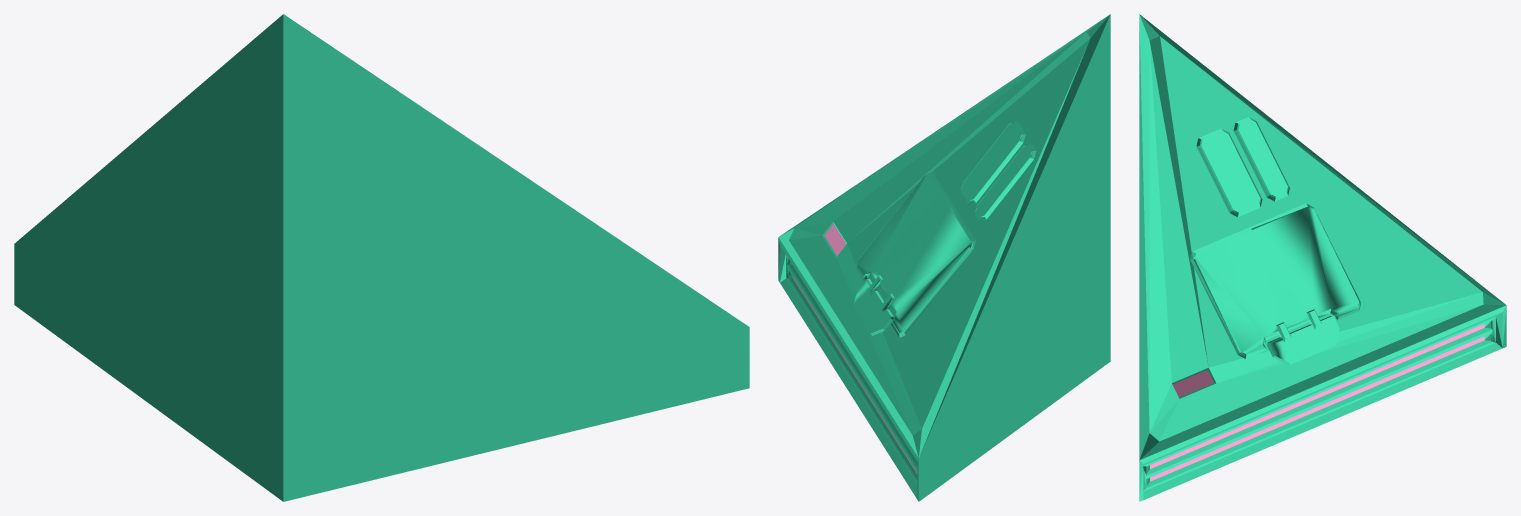
The model's file is uee_stanton_kit_ext_ocnr_4x4x4_02_reg.glb.
3 views of the same model, side by side, from view 1: azimuth 30°, elevation 25°; view 2: azimuth 150°, elevation 25°; view 3: azimuth 270°, elevation 25° (orthographic). The views are drawn at different scales.
Size of the model in its own units: 4 by 4 by 4.
